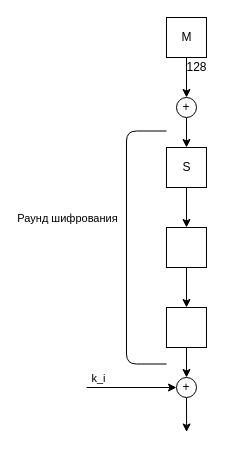
Some shapes in this 234 by 458 pixel diagram are drawn without their labels. The box of each missing label's shape, as (x1, y1, x2, y2) in pixels:
RC: (166, 306, 206, 348)
RR: (166, 226, 206, 268)
